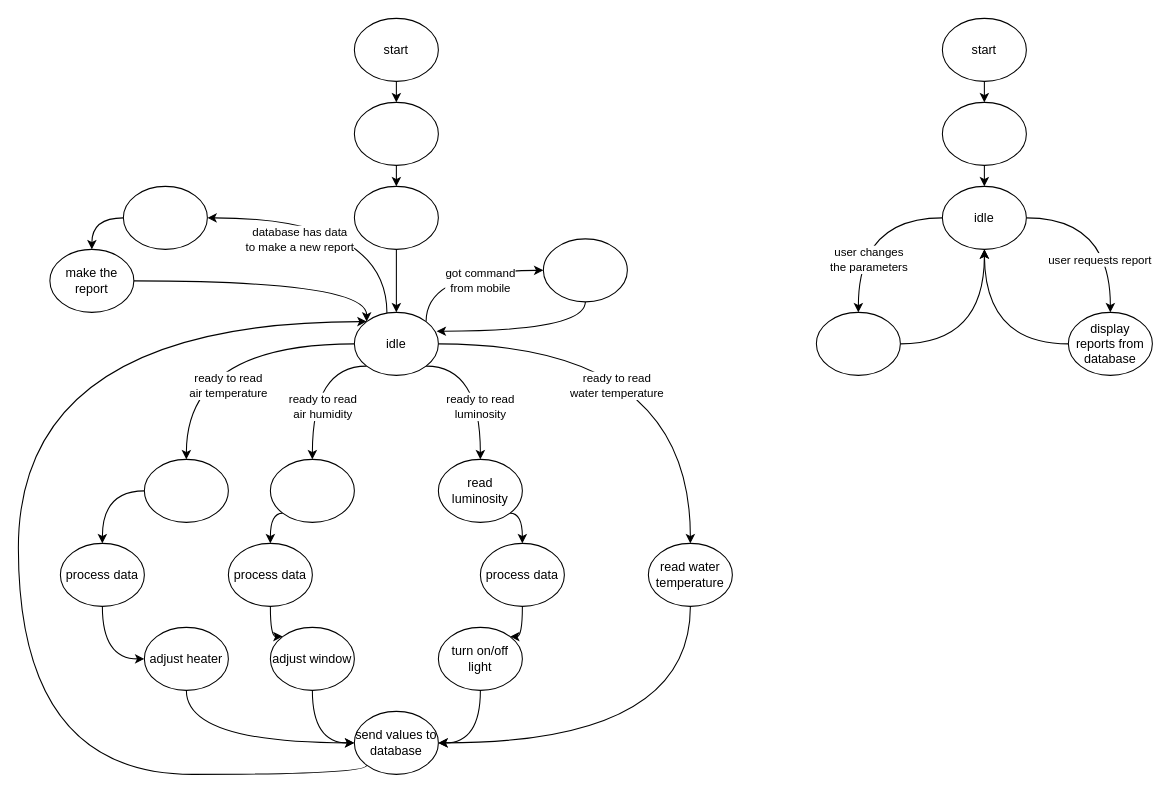
Some shapes in this 1171 by 793 pixel diagram are drawn without their labels. The shapes that lost their labels are listed below. From the top down, each one's centre as x and y in pixels, then its label:
(395,133): system config
(983,133): app config
(164,217): take photo
(395,217): turn on water pump
(584,270): change the parameters
(857,343): set new parameters
(185,490): read air temperature
(311,490): read air humidity
